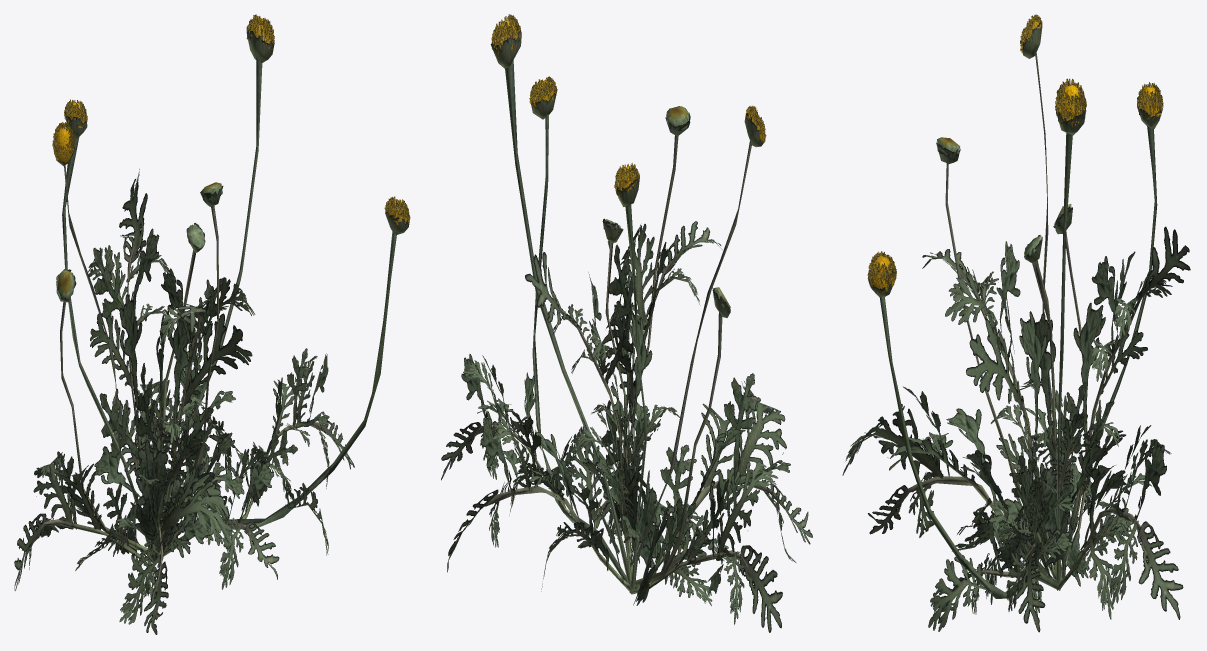
The model's file is flower_stinkkruid_single_2.fbx.
3 views of the same model, side by side, from view 1: azimuth 30°, elevation 25°; view 2: azimuth 150°, elevation 25°; view 3: azimuth 270°, elevation 25° (orthographic). The views are drawn at different scales.
Parts seen in each view (by area): view 1: flower_stinkkruid_single_2; view 2: flower_stinkkruid_single_2; view 3: flower_stinkkruid_single_2.
Boxes of the visible parts, bbox=[...] form: flower_stinkkruid_single_2: bbox=[14, 14, 410, 634]; flower_stinkkruid_single_2: bbox=[441, 14, 812, 632]; flower_stinkkruid_single_2: bbox=[842, 14, 1190, 632].
Bounding box in the file's own units: 0.249 × 0.38 × 0.2086.
Materials: 1 (1 with a texture image).
